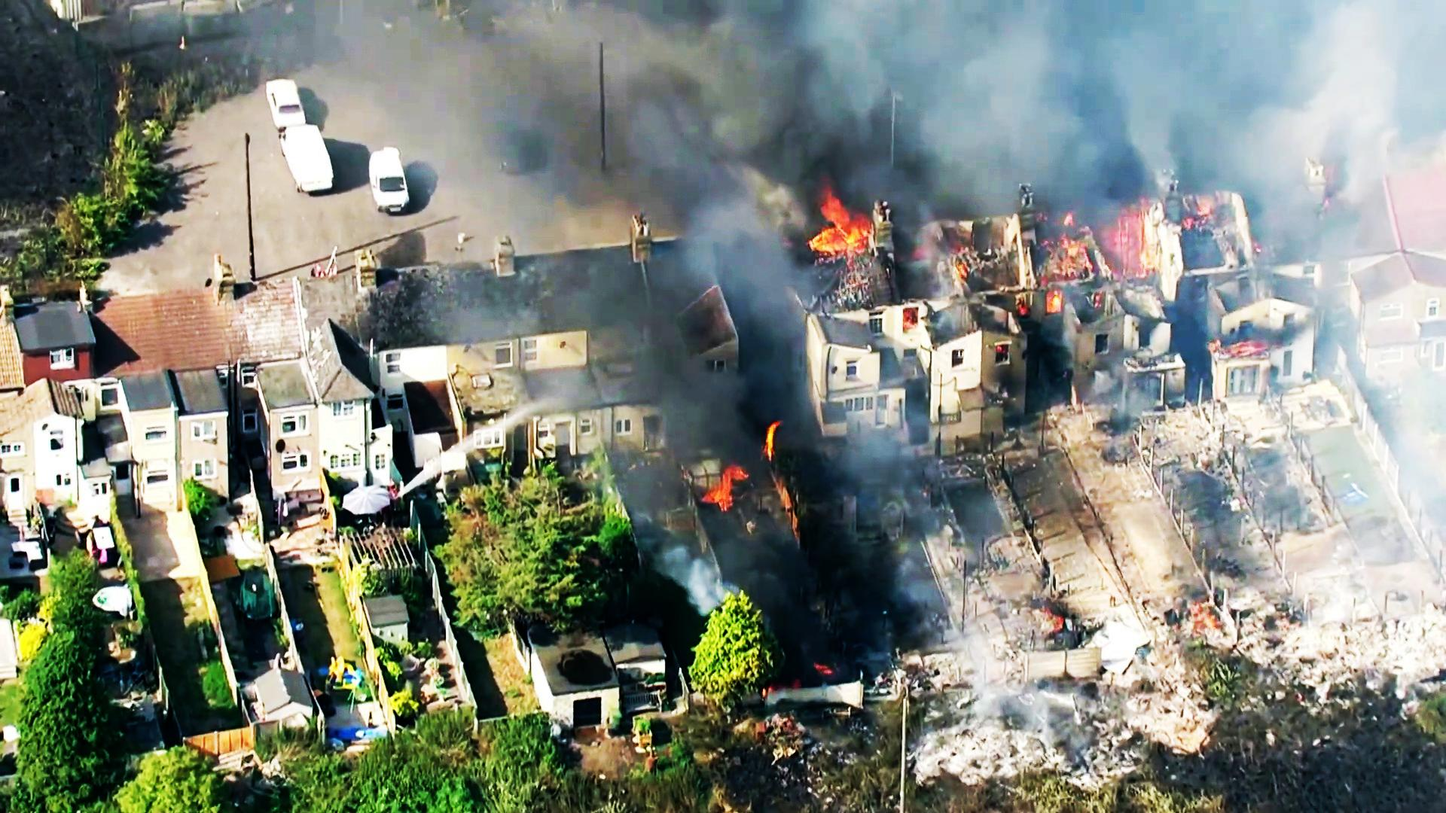fire: (810, 189, 888, 250), (1111, 209, 1168, 271)
smoke: (840, 0, 1237, 170), (679, 1, 953, 160)
